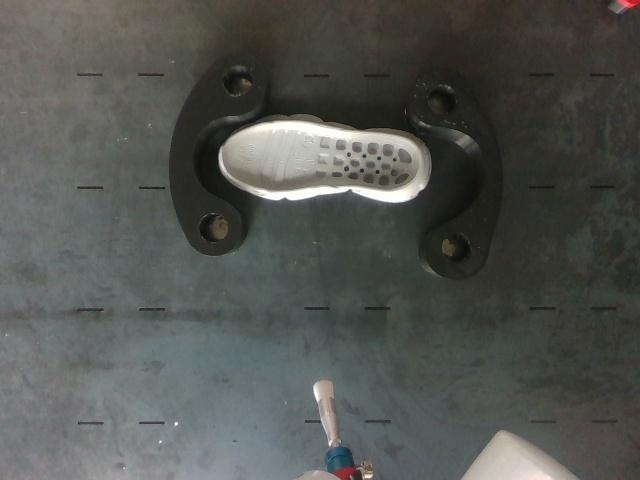shoes: (221, 122, 420, 191)
